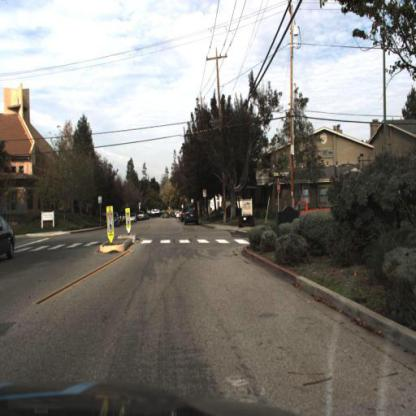car: (285, 192, 340, 221), (1, 214, 17, 265), (184, 206, 199, 227), (107, 211, 122, 230)
